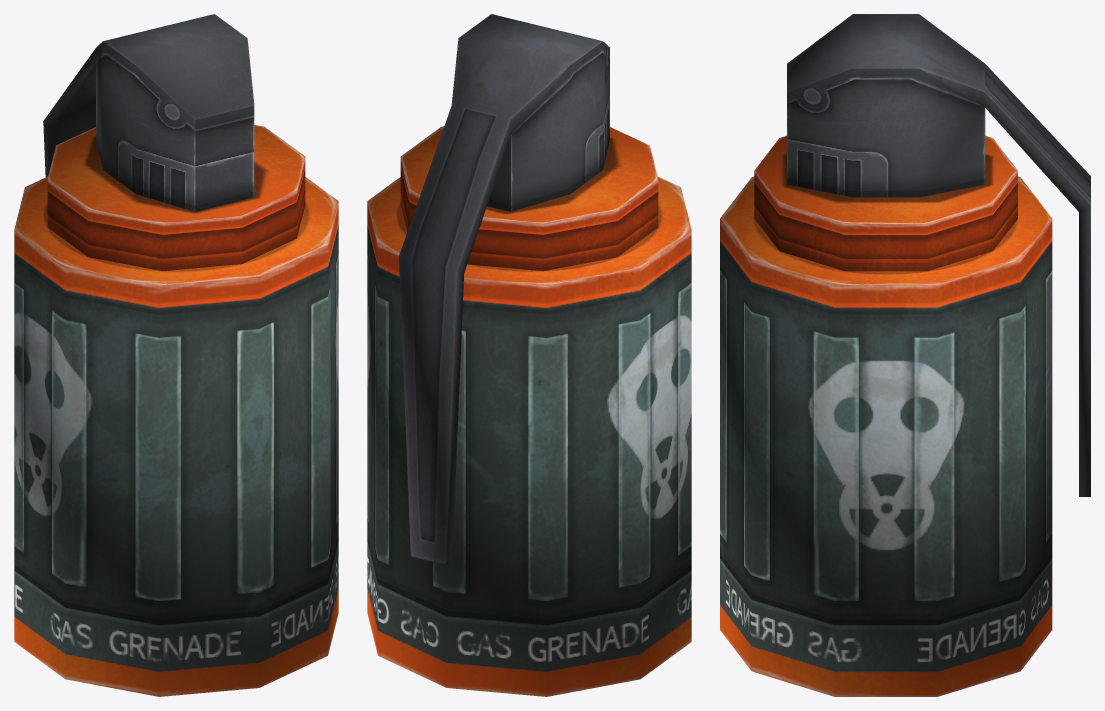
Rendered from gas_grenade.fbx.
The picture shows the model from 3 angles, left to right: view 1: azimuth 30°, elevation 25°; view 2: azimuth 150°, elevation 25°; view 3: azimuth 270°, elevation 25°; orthographic projection.
Parts seen in each view (by area): view 1: gas_grenade; view 2: gas_grenade; view 3: gas_grenade.
Part boxes in pixels (x1,y1,x2,y2): gas_grenade: [14, 14, 338, 696]; gas_grenade: [367, 14, 691, 696]; gas_grenade: [720, 14, 1090, 696].
Size of the model in its own units: 1.9 by 3.91 by 2.23.
